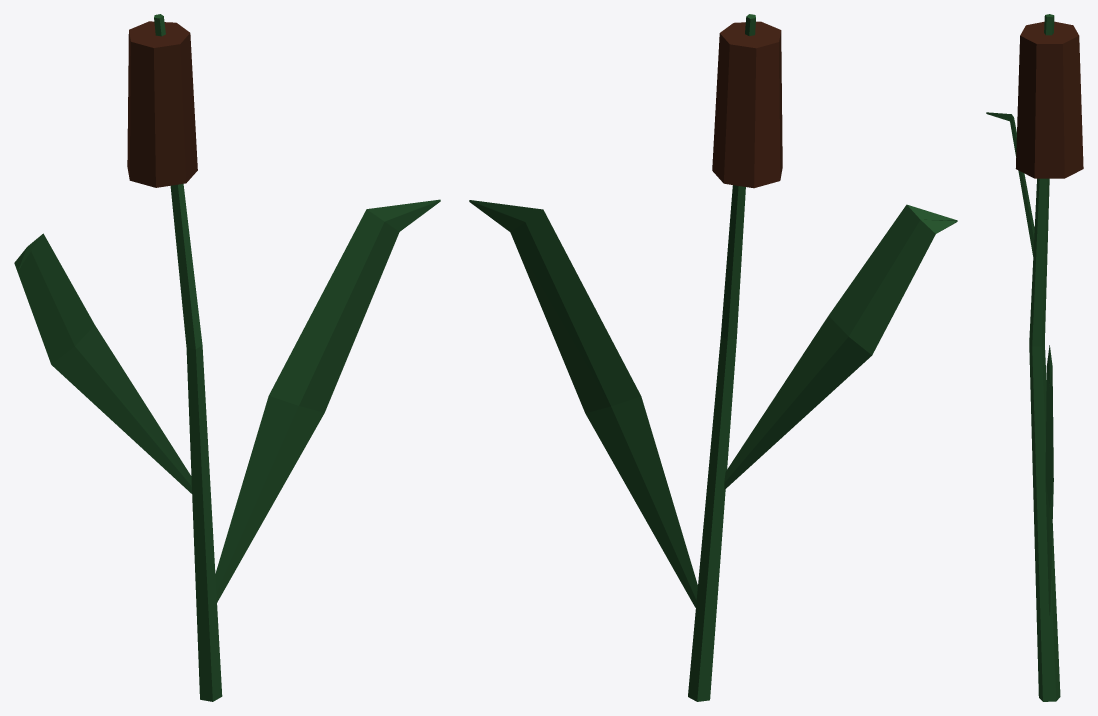
File: N23_Reed_Stem.fbx
3 renders of one model, left to right at view 1: azimuth 30°, elevation 25°; view 2: azimuth 150°, elevation 25°; view 3: azimuth 270°, elevation 25°, orthographic. The views are drawn at different scales.
Parts seen in each view (by area): view 1: N23_Reed_Stem; view 2: N23_Reed_Stem; view 3: N23_Reed_Stem.
Part boxes in pixels (x1,y1,x2,y2): N23_Reed_Stem: [14, 14, 440, 701]; N23_Reed_Stem: [469, 14, 957, 701]; N23_Reed_Stem: [986, 14, 1083, 701].
Bounding box in the file's own units: 0.7905 × 1.15 × 0.1537.
Materials: 2 (2 with a texture image).
